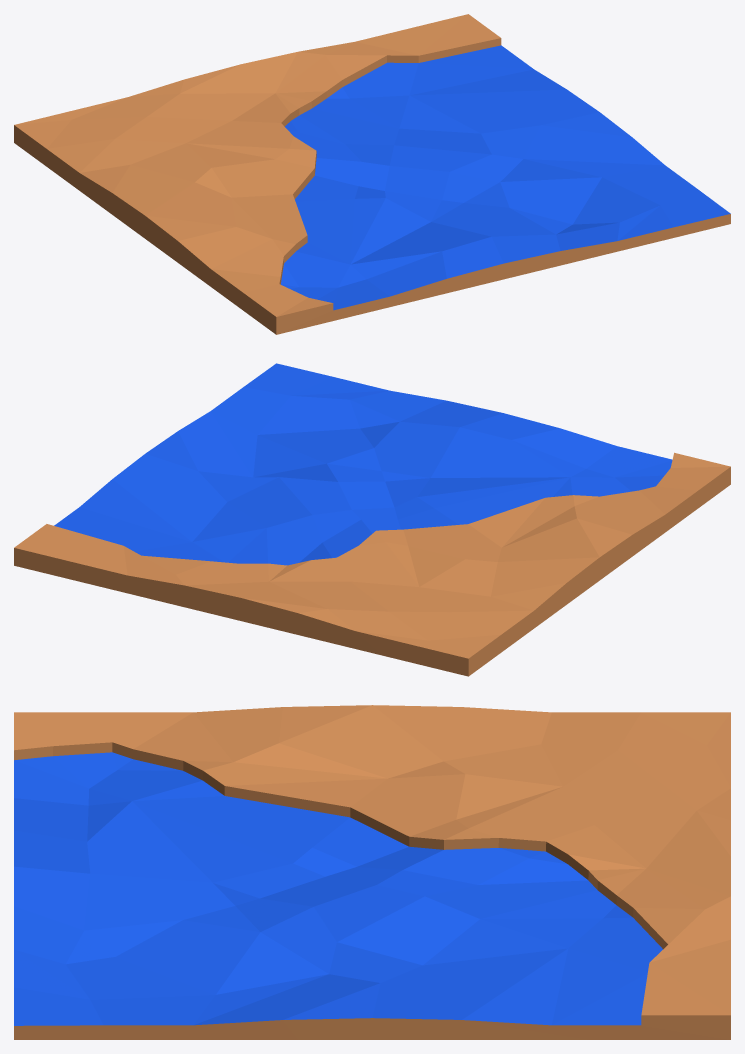
The model's file is Water_mud_1.FBX.
3 renders of one model, top to bottom at view 1: azimuth 30°, elevation 25°; view 2: azimuth 150°, elevation 25°; view 3: azimuth 270°, elevation 25°, orthographic. The views are drawn at different scales.
Visible parts, largest first — view 1: Water_mud_1; view 2: Water_mud_1; view 3: Water_mud_1.
Boxes of the visible parts, bbox=[...] form: Water_mud_1: bbox=[14, 14, 730, 334]; Water_mud_1: bbox=[14, 363, 730, 676]; Water_mud_1: bbox=[14, 705, 730, 1039].
Bounding box in the file's own units: 1.5 × 0.0732 × 1.5.
1 material, 1 textured.
